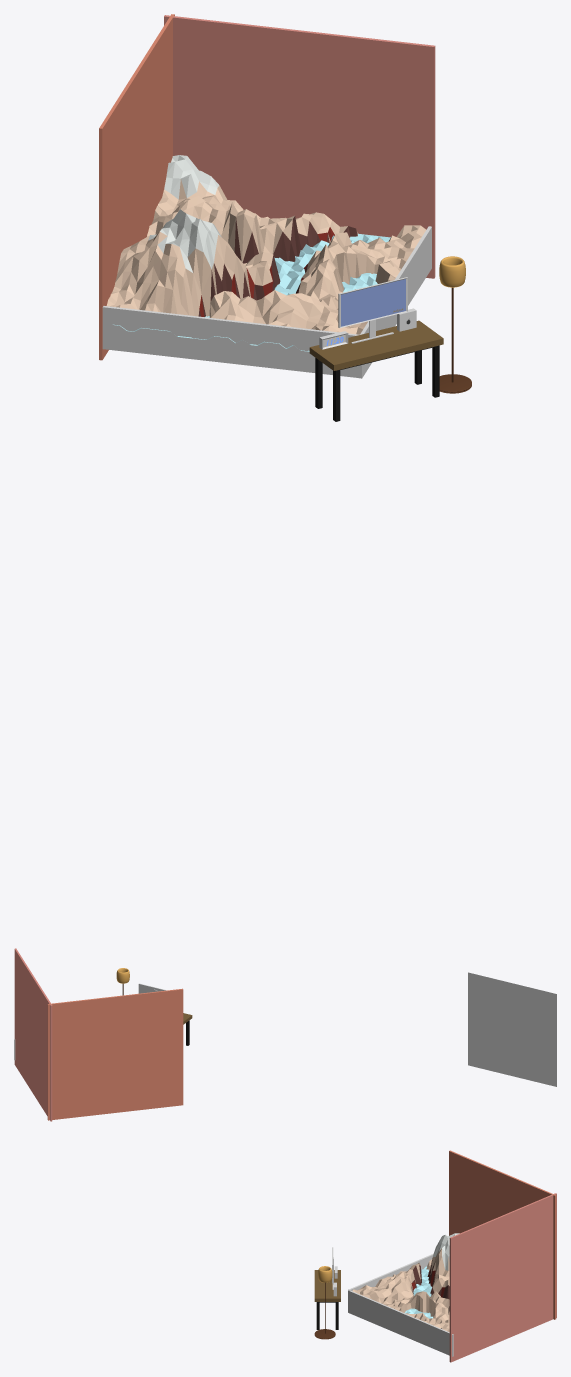
The model's file is mountain.gltf.
The picture shows the model from 3 angles, top to bottom: view 1: azimuth 30°, elevation 25°; view 2: azimuth 150°, elevation 25°; view 3: azimuth 270°, elevation 25°; orthographic projection. The views are drawn at different scales.
Parts seen in each view (by area): view 1: Cube.002, Cube.011, Cube, Cube.003; view 2: Cube.002, Plane.002; view 3: Cube.002, Cube.011.
Part boxes in pixels (box(x1,y1,x2,y2)): Cube.002: box(99, 14, 435, 378); Cube.011: box(309, 320, 443, 370); Cube: box(338, 277, 407, 343); Cube.003: box(315, 345, 439, 421); Cube.002: box(14, 948, 183, 1121); Plane.002: box(468, 972, 556, 1086); Cube.002: box(348, 1150, 556, 1362); Cube.011: box(314, 1270, 340, 1301).
Size of the model in its own units: 40.27 by 23.33 by 52.23.
